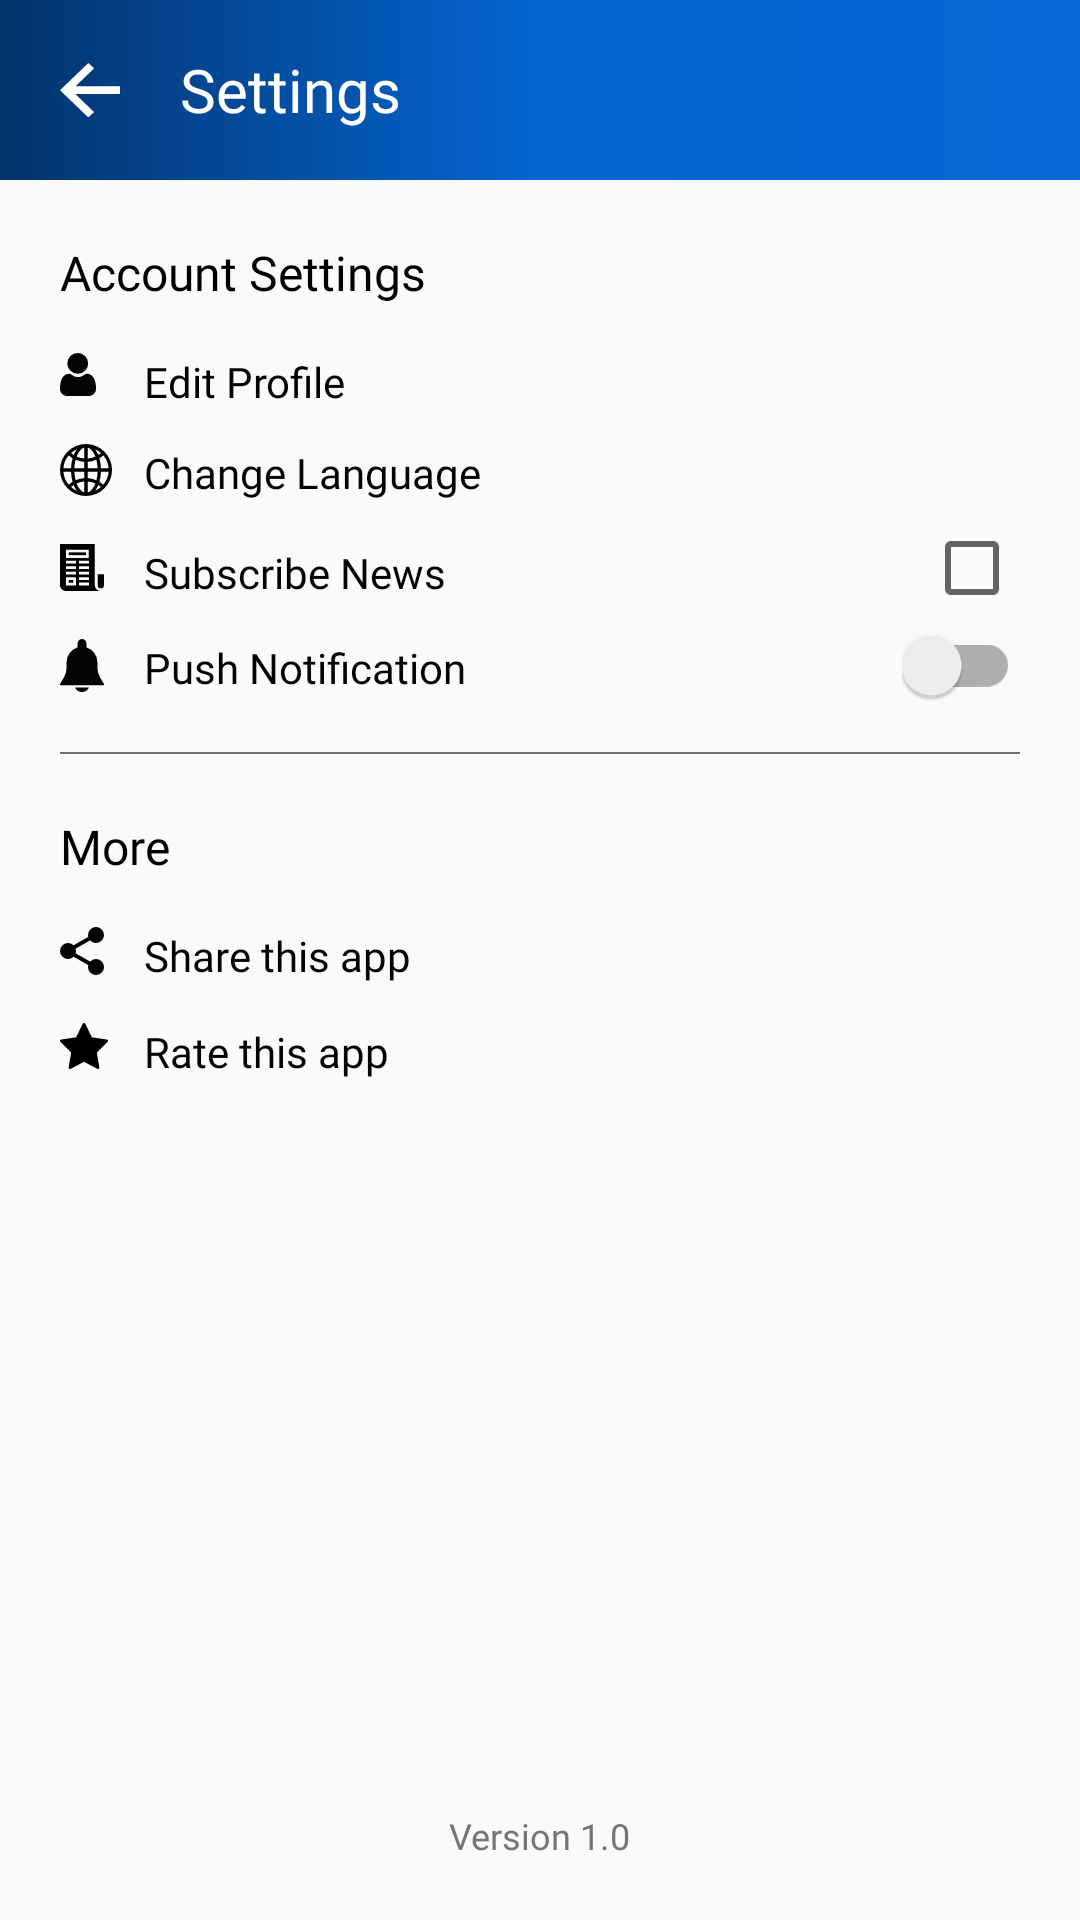

Icon click points for this 1080px×1920px phone screenshot, format (x,y):
bell: (82,665)
left arrow: (90,90)
star: (84,1046)
user: (78,374)
